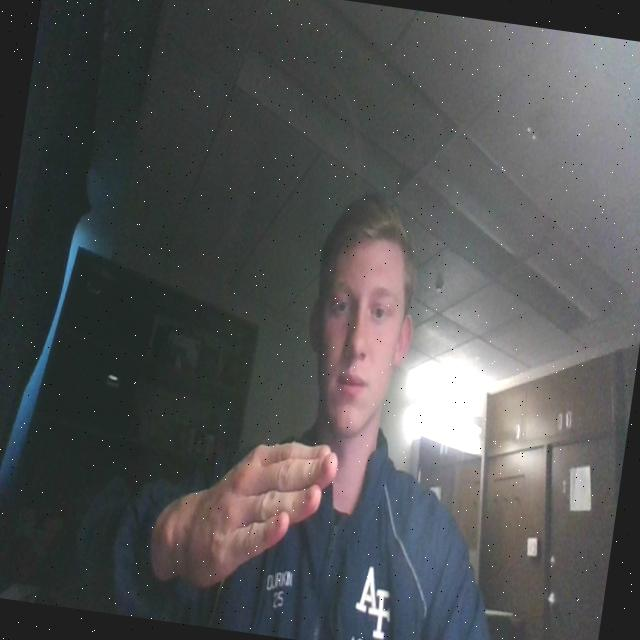paper: (148, 414, 348, 614)
